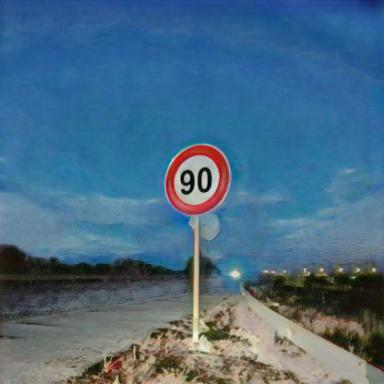Speed_limit_90: (163, 144, 229, 213)
